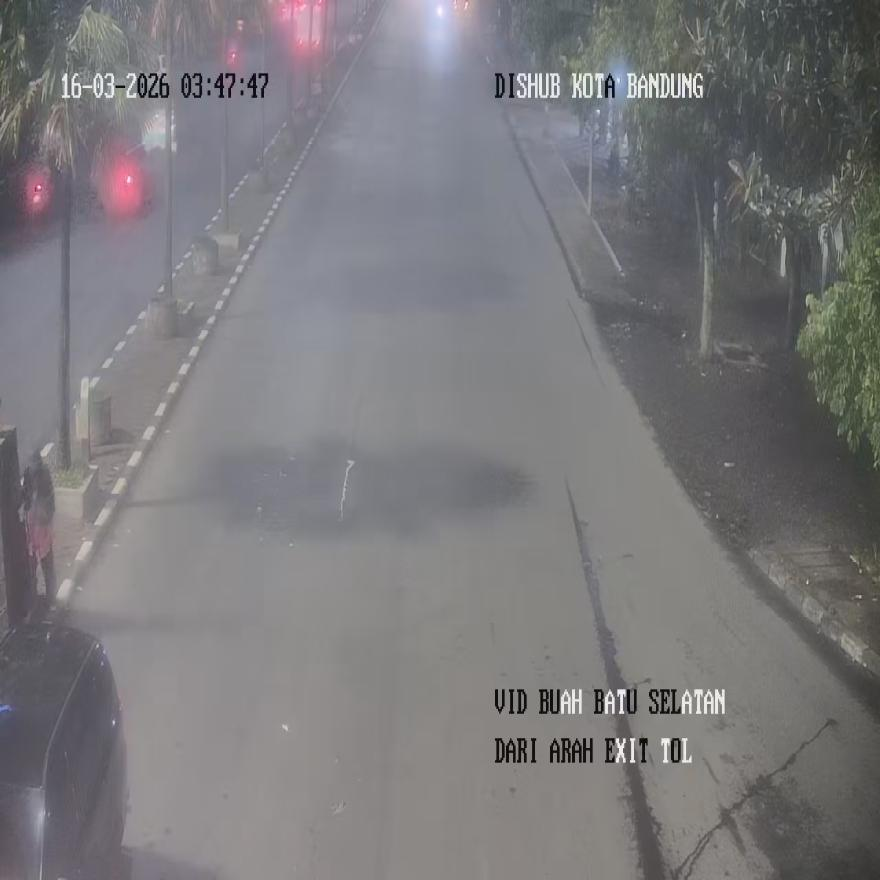Mobil: (0, 620, 129, 878)
